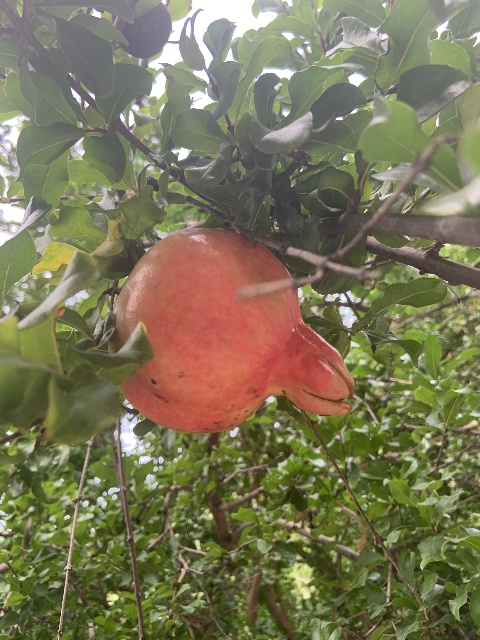ripe: (112, 229, 354, 432)
